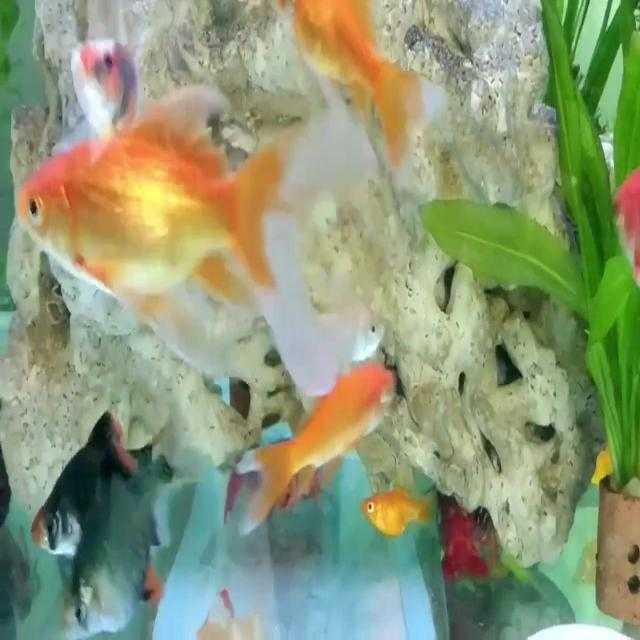GoldFish: (9, 78, 354, 414)
